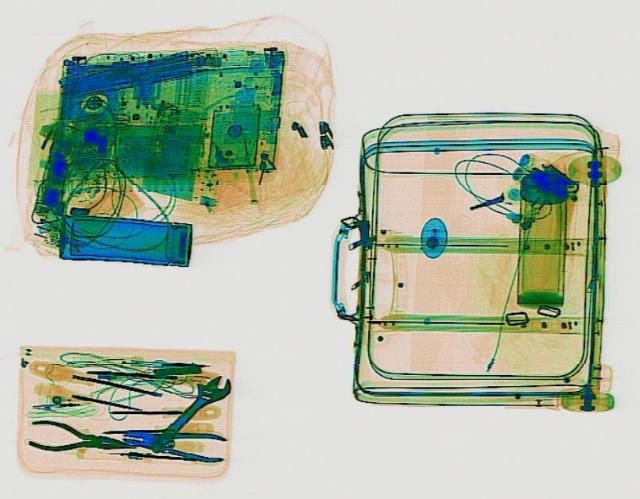Pliers: (20, 416, 136, 461), (119, 420, 227, 463)
Wrench: (136, 367, 238, 458)
